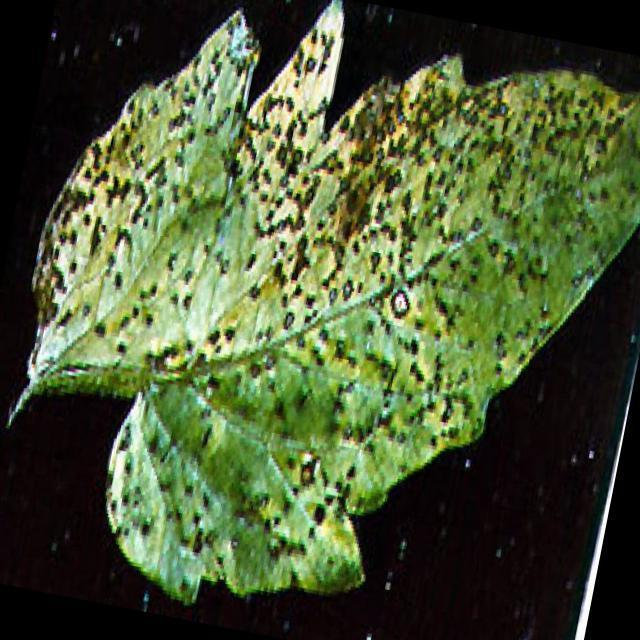Septoria: (144, 12, 640, 640), (13, 0, 263, 415)
